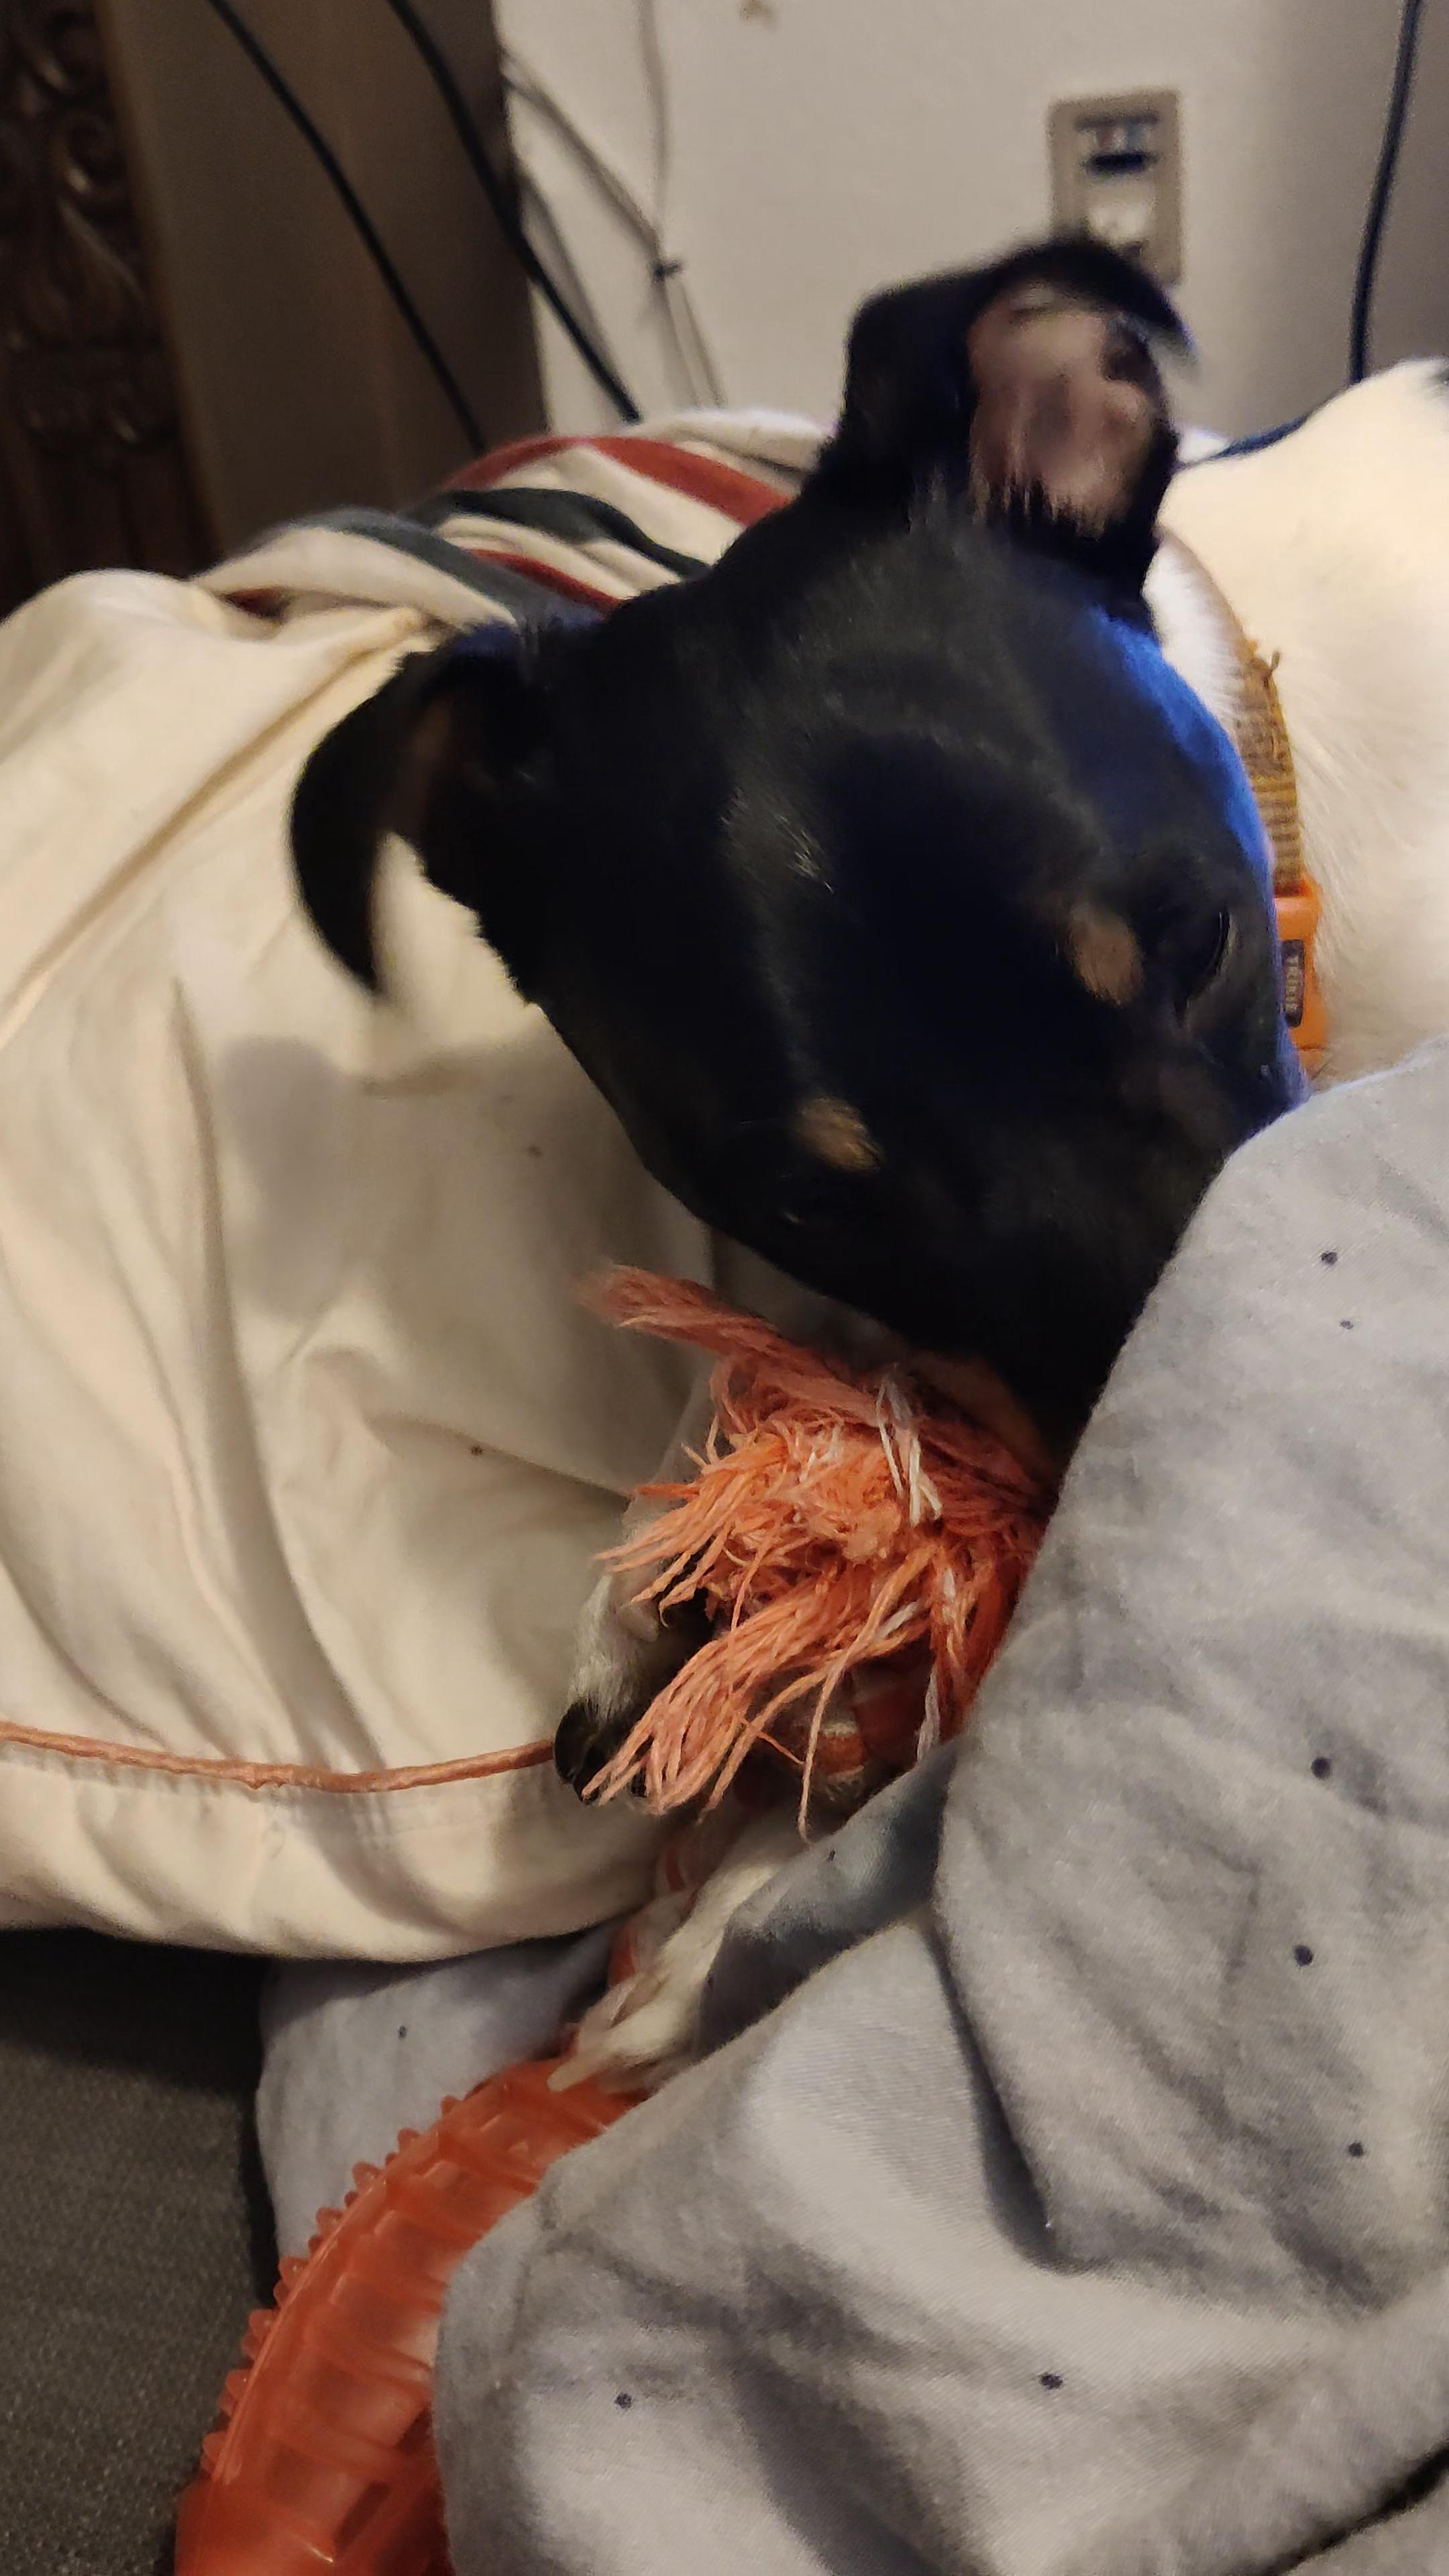Dog: (271, 212, 1449, 2107)
